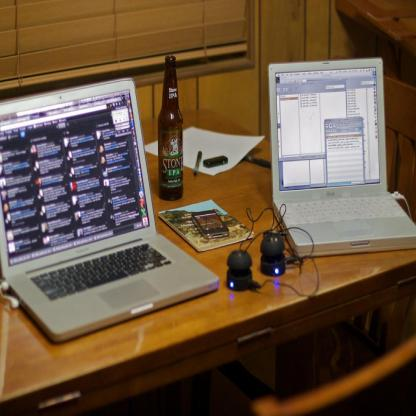board: (0, 78, 220, 344), (270, 57, 416, 259), (158, 52, 184, 198)
